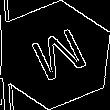M_SE: (21, 23, 89, 87)
